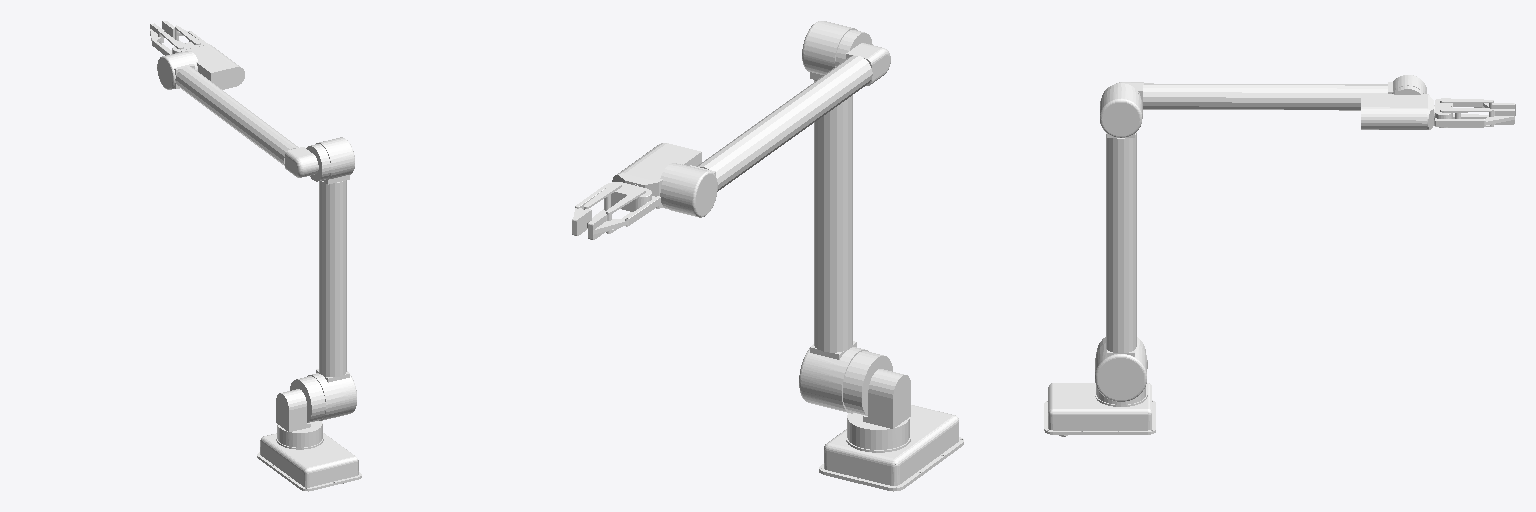
robot.urdf — yj10:
<?xml version="1.0" encoding="utf-8"?>
<!-- This URDF was automatically created by SolidWorks to URDF Exporter! Originally created by
[author] ([email redacted]) 
     Commit Version: 1.6.0-4-g7f85cfe  Build Version: 1.6.7995.38578
     For more information, please see http://wiki.ros.org/sw_urdf_exporter -->
<robot name="yj10">
    <link name="world" />
    <joint name="base_joint" type="fixed">
        <parent link="world" />
        <child link="base_link" />
        <origin xyz="0.0 0.0 0.5" rpy="0.0 0.0 0.0" />
    </joint>
    <link name="base_link">
        <inertial>
            <origin xyz="0.000134667287995895 -0.0432500831535442 0.025845315360739" rpy="0 0 0" />
            <mass value="1.70194512971782" />
            <inertia ixx="0.00716472026950657" ixy="1.78214452851128E-05" ixz="8.04191431914254E-06"
                iyy="0.00340394281912895" iyz="-6.10052307905097E-05" izz="0.00973745717841389" />
        </inertial>
        <visual>
            <origin xyz="0 0 0" rpy="0 0 0" />
            <geometry>
                <mesh filename="package://yj10_description/meshes/base_link.STL" />
            </geometry>
            <material name="">
                <color rgba="1 1 1 1" />
            </material>
        </visual>
        <collision>
            <origin xyz="0 0 0" rpy="0 0 0" />
            <geometry>
                <mesh filename="package://yj10_description/meshes/base_link.STL" />
            </geometry>
        </collision>
    </link>
    <link name="link1">
        <inertial>
            <origin xyz="0.0017435 -6.9021E-17 0.061315" rpy="0 0 0" />
            <mass value="0.87269" />
            <inertia ixx="0.0018566" ixy="-2.2587E-18" ixz="-0.00012803" iyy="0.0018955"
                iyz="-1.0839E-18" izz="0.0010518" />
        </inertial>
        <visual>
            <origin xyz="0 0 0" rpy="0 0 0" />
            <geometry>
                <mesh filename="package://yj10_description/meshes/link1.STL" />
            </geometry>
            <material name="">
                <color rgba="1 1 1 1" />
            </material>
        </visual>
        <collision>
            <origin xyz="0 0 0" rpy="0 0 0" />
            <geometry>
                <mesh filename="package://yj10_description/meshes/link1.STL" />
            </geometry>
        </collision>
    </link>
    <joint name="joint1" type="revolute">
        <origin xyz="0 0 0.056" rpy="0 0 0" />
        <parent link="base_link" />
        <child link="link1" />
        <axis xyz="0 0 -1" />
        <limit lower="-1.5708" upper="1.5708" effort="10000" velocity="0.57" />
    </joint>
    <link name="link2">
        <inertial>
            <origin xyz="0.046606 -1.5449E-17 0.27133" rpy="0 0 0" />
            <mass value="3.09" />
            <inertia ixx="0.036472" ixy="4.8405E-20" ixz="-1.8792E-05" iyy="0.036366"
                iyz="8.4789E-19" izz="0.0025346" />
        </inertial>
        <visual>
            <origin xyz="0 0 0" rpy="0 0 0" />
            <geometry>
                <mesh filename="package://yj10_description/meshes/link2.STL" />
            </geometry>
            <material name="">
                <color rgba="1 1 1 1" />
            </material>
        </visual>
        <collision>
            <origin xyz="0 0 0" rpy="0 0 0" />
            <geometry>
                <mesh filename="package://yj10_description/meshes/link2.STL" />
            </geometry>
        </collision>
    </link>
    <joint name="joint2" type="revolute">
        <origin xyz="0.039 0 0.093" rpy="0 0 0" />
        <parent link="link1" />
        <child link="link2" />
        <axis xyz="-1 0 0" />
        <limit lower="-1.5708" upper="1.5708" effort="10000" velocity="0.57" />
    </joint>
    <link name="link3">
        <inertial>
            <origin xyz="-0.031288 0.3257 -6.7668E-09" rpy="0 0 0" />
            <mass value="1.8688" />
            <inertia ixx="0.027423" ixy="1.9482E-05" ixz="-4.2036E-10" iyy="0.00089622"
                iyz="2.4523E-11" izz="0.027448" />
        </inertial>
        <visual>
            <origin xyz="0 0 0" rpy="0 0 0" />
            <geometry>
                <mesh filename="package://yj10_description/meshes/link3.STL" />
            </geometry>
            <material name="">
                <color rgba="1 1 1 1" />
            </material>
        </visual>
        <collision>
            <origin xyz="0 0 0" rpy="0 0 0" />
            <geometry>
                <mesh filename="package://yj10_description/meshes/link3.STL" />
            </geometry>
        </collision>
    </link>
    <joint name="joint3" type="revolute">
        <origin xyz="0.005 0 0.6" rpy="0 0 0" />
        <parent link="link2" />
        <child link="link3" />
        <axis xyz="1 0 0" />
        <limit lower="-1.5708" upper="1.5708" effort="10000" velocity="0.57" />
    </joint>
    <link name="link4">
        <inertial>
            <origin xyz="0.043215 -0.024009 2.0697E-09" rpy="0 0 0" />
            <mass value="0.63938" />
            <inertia ixx="0.0010731" ixy="5.6999E-06" ixz="3.7743E-11" iyy="0.00054081"
                iyz="-6.1086E-12" izz="0.0013552" />
        </inertial>
        <visual>
            <origin xyz="0 0 0" rpy="0 0 0" />
            <geometry>
                <mesh filename="package://yj10_description/meshes/link4.STL" />
            </geometry>
            <material name="">
                <color rgba="1 1 1 1" />
            </material>
        </visual>
        <collision>
            <origin xyz="0 0 0" rpy="0 0 0" />
            <geometry>
                <mesh filename="package://yj10_description/meshes/link4.STL" />
            </geometry>
        </collision>
    </link>
    <joint name="joint4" type="revolute">
        <origin xyz="0.0085 0.6 0" rpy="0 0 0" />
        <parent link="link3" />
        <child link="link4" />
        <axis xyz="-1 0 0" />
        <limit lower="-1.5708" upper="1.5708" effort="10000" velocity="0.57" />
    </joint>
    <link name="link5">
        <inertial>
            <origin xyz="0.00088967 0.058861 0.00040131" rpy="0 0 0" />
            <mass value="0.22539" />
            <inertia ixx="9.0388E-05" ixy="-6.7485E-07" ixz="-8.312E-15" iyy="7.1045E-05"
                iyz="4.533E-07" izz="0.00014085" />
        </inertial>
        <visual>
            <origin xyz="0 0 0" rpy="0 0 0" />
            <geometry>
                <mesh filename="package://yj10_description/meshes/link5.STL" />
            </geometry>
            <material name="">
                <color rgba="1 1 1 1" />
            </material>
        </visual>
        <collision>
            <origin xyz="0 0 0" rpy="0 0 0" />
            <geometry>
                <mesh filename="package://yj10_description/meshes/link5.STL" />
            </geometry>
        </collision>
    </link>
    <joint name="joint5" type="revolute">
        <origin xyz="0.0405 0.05597 0" rpy="0 0 0" />
        <parent link="link4" />
        <child link="link5" />
        <axis xyz="0 -1 0" />
        <limit lower="-1.5708" upper="1.5708" effort="10000" velocity="0.57" />
    </joint>
    <link name="fake_link6">
        <inertial>
            <origin xyz="0.0 0.0 0.0" rpy="0 0 0" />
            <mass value="0.22539" />
            <inertia ixx="9.0388E-05" ixy="0.0" ixz="0.0" iyy="7.1045E-05"
                iyz="0.0" izz="0.00014085" />
        </inertial>
        <visual>
            <origin xyz="0 0 0" rpy="0 0 0" />
            <geometry>
                <box size="0.01 0.01 0.01" />
            </geometry>
        </visual>
    </link>
    <joint name="joint6_fake" type="continuous">
        <parent link="link5" />
        <child link="fake_link6" />
        <axis xyz="0 0 1" />
        <origin xyz="0 0.145 0" rpy="0 0 0" />
    </joint>
    <!-- For Gazebo -->
    <transmission name="trans_joint1">
        <type>transmission_interface/SimpleTransmission</type>
        <joint name="joint1">
            <hardwareInterface>hardware_interface/EffortJointInterface</hardwareInterface>
        </joint>
        <actuator name="joint1_motor">
            <hardwareInterface>hardware_interface/EffortJointInterface</hardwareInterface>
            <mechanicalReduction>1</mechanicalReduction>
        </actuator>
    </transmission>
    <transmission name="trans_joint2">
        <type>transmission_interface/SimpleTransmission</type>
        <joint name="joint2">
            <hardwareInterface>hardware_interface/EffortJointInterface</hardwareInterface>
        </joint>
        <actuator name="joint2_motor">
            <hardwareInterface>hardware_interface/EffortJointInterface</hardwareInterface>
            <mechanicalReduction>1</mechanicalReduction>
        </actuator>
    </transmission>
    <transmission name="trans_joint3">
        <type>transmission_interface/SimpleTransmission</type>
        <joint name="joint3">
            <hardwareInterface>hardware_interface/EffortJointInterface</hardwareInterface>
        </joint>
        <actuator name="joint3_motor">
            <hardwareInterface>hardware_interface/EffortJointInterface</hardwareInterface>
            <mechanicalReduction>1</mechanicalReduction>
        </actuator>
    </transmission>
    <transmission name="trans_joint4">
        <type>transmission_interface/SimpleTransmission</type>
        <joint name="joint4">
            <hardwareInterface>hardware_interface/EffortJointInterface</hardwareInterface>
        </joint>
        <actuator name="joint4_motor">
            <hardwareInterface>hardware_interface/EffortJointInterface</hardwareInterface>
            <mechanicalReduction>1</mechanicalReduction>
        </actuator>
    </transmission>
    <transmission name="trans_joint5">
        <type>transmission_interface/SimpleTransmission</type>
        <joint name="joint5">
            <hardwareInterface>hardware_interface/EffortJointInterface</hardwareInterface>
        </joint>
        <actuator name="joint5_motor">
            <hardwareInterface>hardware_interface/EffortJointInterface</hardwareInterface>
            <mechanicalReduction>1</mechanicalReduction>
        </actuator>
    </transmission>
    <gazebo>
        <plugin name="gazebo_ros_control" filename="libgazebo_ros_control.so">
            <robotNamespace>/yj10</robotNamespace>
        </plugin>
    </gazebo>
    <transmission name="trans_joint6_fake">
        <type>transmission_interface/SimpleTransmission</type>
        <joint name="joint6_fake">
            <hardwareInterface>hardware_interface/EffortJointInterface</hardwareInterface>
        </joint>
        <actuator name="joint6_fake_motor">
            <hardwareInterface>hardware_interface/EffortJointInterface</hardwareInterface>
            <mechanicalReduction>1</mechanicalReduction>
        </actuator>
    </transmission>
</robot>

--- Render facts (derived) ---
3 views of the same robot in one strip: view 1: azimuth 30°, elevation 25°; view 2: azimuth 150°, elevation 25°; view 3: azimuth 270°, elevation 25° (orthographic).
Model yj10 with 8 links and 7 joints (5 revolute, 1 continuous, 1 fixed), rooted at world, posed every joint at zero.
Visible links, largest first — view 1: link2, link3, base_link, link1, link4, link5; view 2: link2, link3, base_link, link1, link5, link4; view 3: link2, link3, base_link, link4, link5.
Link boxes in pixels (left/top/right/bottom): link2: left=307, top=137, right=356, bottom=420; link3: left=157, top=51, right=324, bottom=181; base_link: left=257, top=433, right=361, bottom=491; link1: left=276, top=376, right=325, bottom=447; link4: left=181, top=44, right=244, bottom=89; link5: left=150, top=21, right=207, bottom=55; link2: left=799, top=21, right=868, bottom=413; link3: left=660, top=32, right=890, bottom=217; base_link: left=819, top=405, right=963, bottom=491; link1: left=843, top=351, right=910, bottom=449; link5: left=572, top=182, right=660, bottom=239; link4: left=612, top=143, right=701, bottom=208; link2: left=1095, top=85, right=1147, bottom=401; link3: left=1101, top=75, right=1426, bottom=110; base_link: left=1044, top=383, right=1155, bottom=436; link4: left=1361, top=94, right=1433, bottom=129; link5: left=1434, top=98, right=1515, bottom=127.
Bounding box of the posed robot: 0.2278 × 0.9861 × 0.8152 m (x, y, z).
Meshes: 6 distinct files referenced, 6 mesh visuals loaded (6 binary STL).
